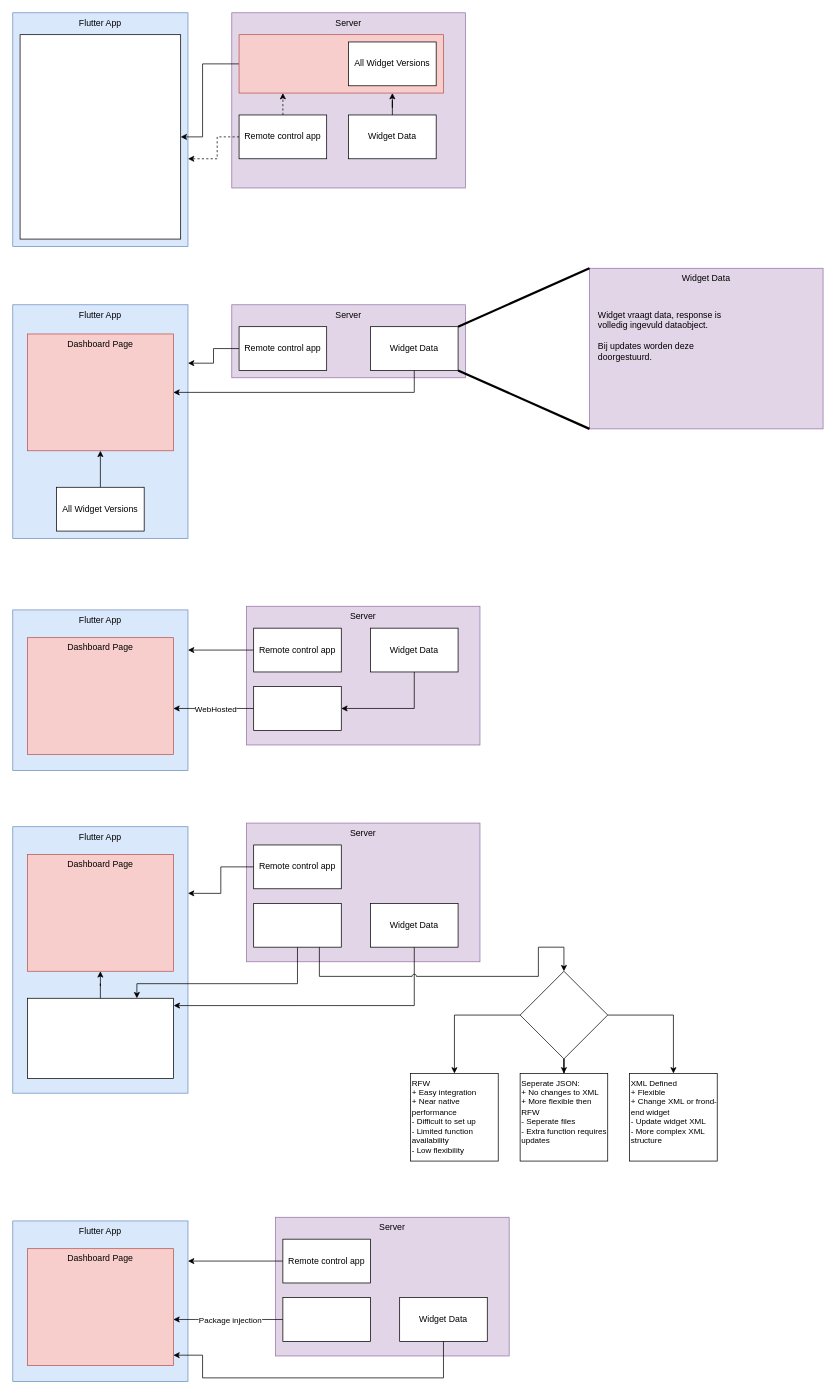
Some shapes in this 836 by 1396 pixel diagram are drawn without their labels. The shapes that lost their labels are listed below. From the top down, each one's box as (x1, y1, x2, y2) in pixels, then its label:
(238, 34, 443, 93): Dashboard App
(19, 34, 181, 239): Remote Widget Dashboard iFrame
(253, 686, 341, 730): All Widget Webapps
(253, 903, 341, 947): Full Widget UI
(519, 971, 608, 1059): Verschillende opties
(27, 998, 173, 1079): UI Renderer
(282, 1297, 370, 1341): All Widget Versions as packages
